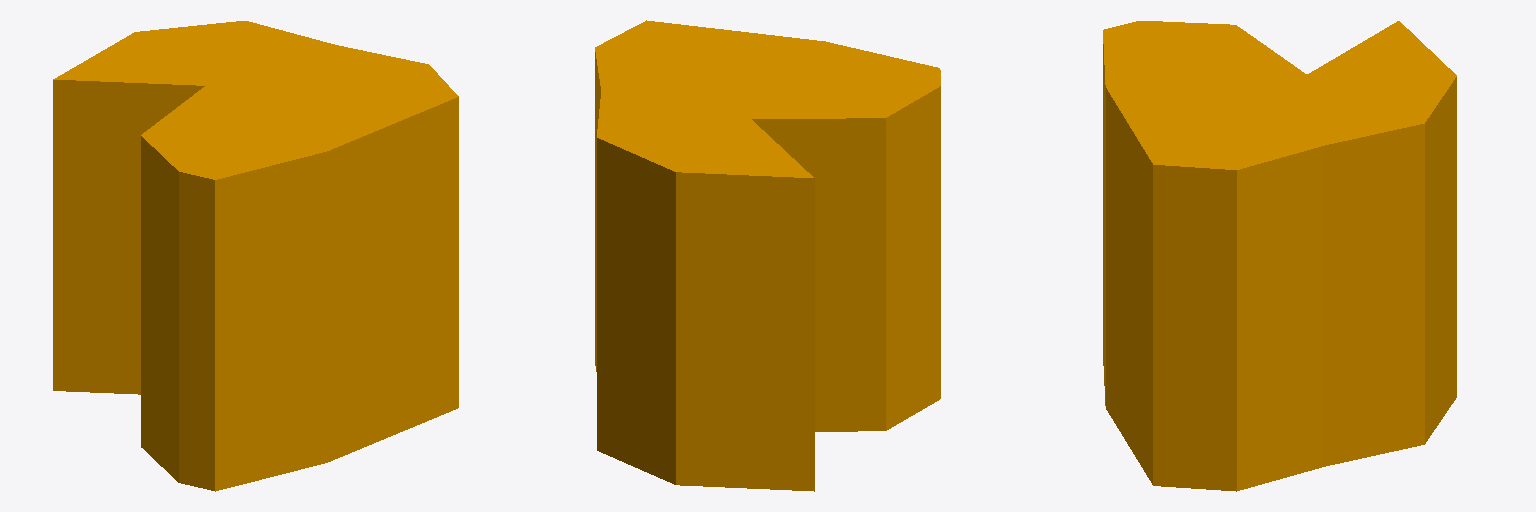
robot.urdf — object:
<?xml version="1.0"?>
<robot name="object">
  <link name="object">
    <visual>
      <origin xyz="0 0 0"/>
      <geometry>
        <mesh filename="meshes/polygon/poly_10_s.obj" scale=".03 .03 .03"/>
      </geometry>
    </visual>
    <collision>
  <origin xyz="0 0 0"/>
  <geometry>
    <mesh filename="meshes/polygon/poly_10_s_0decompose.obj" scale=".03 .03 .03"/>
<!--          <mesh filename="meshes/custom/obj0_ball.obj" scale=".05 .05 .05"/>-->
  </geometry>
</collision><collision>
  <origin xyz="0 0 0"/>
  <geometry>
    <mesh filename="meshes/polygon/poly_10_s_1decompose.obj" scale=".03 .03 .03"/>
<!--          <mesh filename="meshes/custom/obj0_ball.obj" scale=".05 .05 .05"/>-->
  </geometry>
</collision>

<!--    <collision>-->
<!--      <origin xyz="0 0 0"/>-->
<!--      <geometry>-->
<!--        <mesh filename="meshes/polygon/poly_10_s.obj" scale=".03 .03 .03"/>-->
<!--&lt;!&ndash;          <mesh filename="meshes/custom/obj0_ball.obj" scale=".05 .05 .05"/>&ndash;&gt;-->
<!--      </geometry>-->
<!--    </collision>-->
    <inertial>
      <density value="1000.0"/>
    </inertial>
  </link>
</robot>

--- Render facts (derived) ---
Views: 3 orthographic renders of the robot side by side, from view 1: azimuth 30°, elevation 25°; view 2: azimuth 150°, elevation 25°; view 3: azimuth 270°, elevation 25°.
Model object with 1 links and 0 joints (none), rooted at object, posed all joints at 0.
Links seen in each view (by area): view 1: object; view 2: object; view 3: object.
Boxes of the visible links, x1,y1,x2,y2 form: object: (53,21,458,491); object: (595,20,940,491); object: (1103,21,1456,491).
Size in the robot's own frame: 0.06 by 0.06 by 0.06 metres.
Meshes: 1 distinct files referenced, 1 mesh visuals loaded (1 OBJ).
